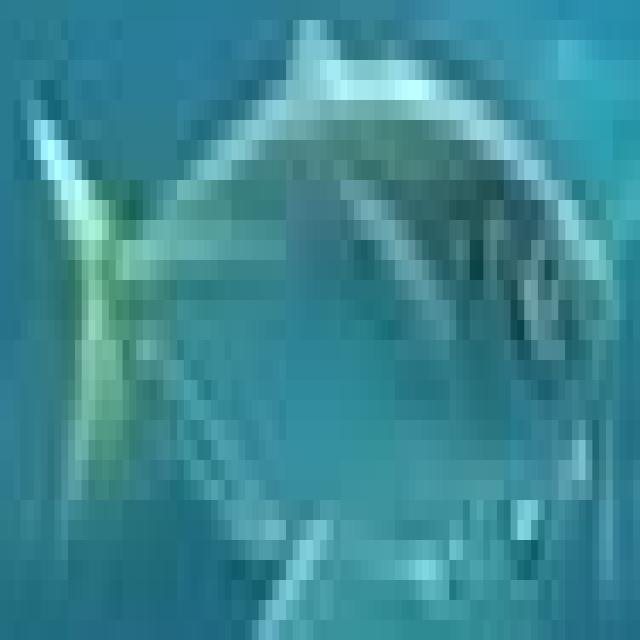fish: (7, 20, 640, 640)
